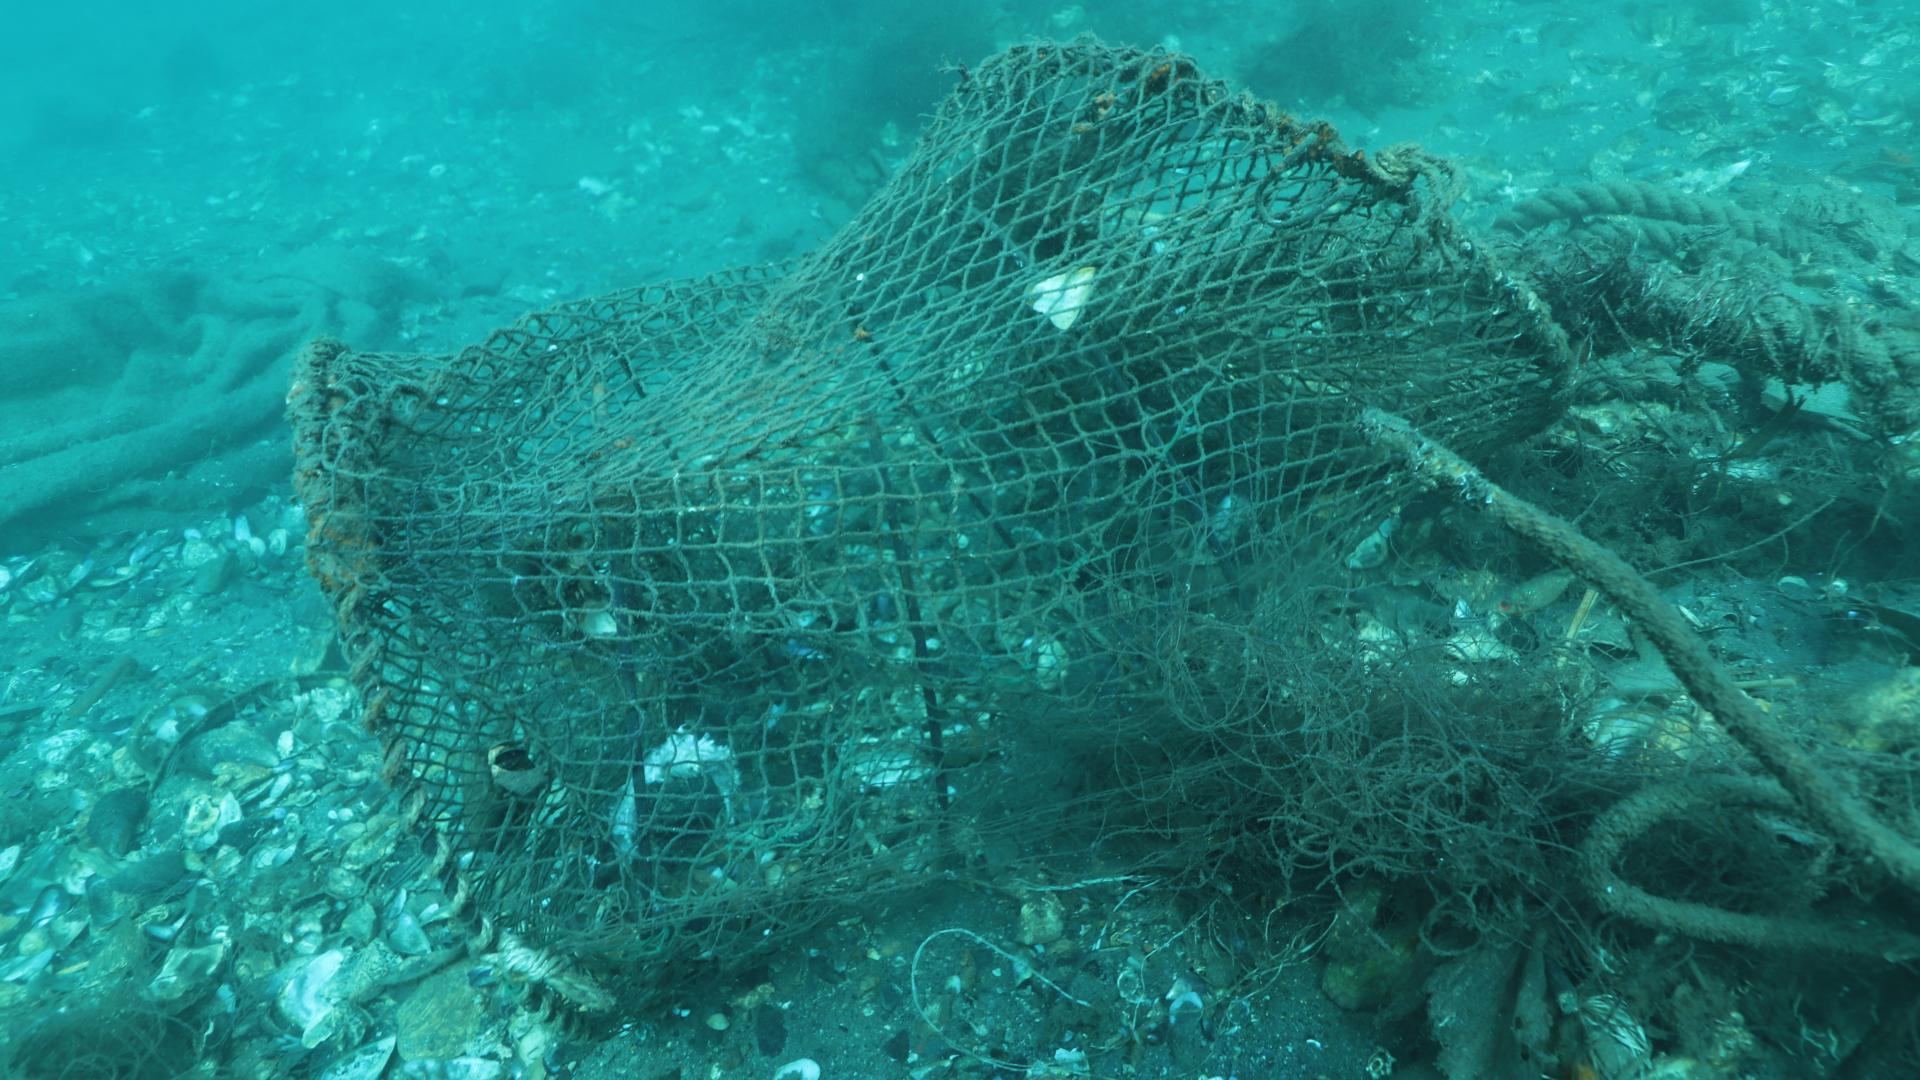bundle of ropes: (1486, 175, 1796, 256), (1373, 142, 1466, 208)
spring fish trap: (284, 37, 1580, 1048)
